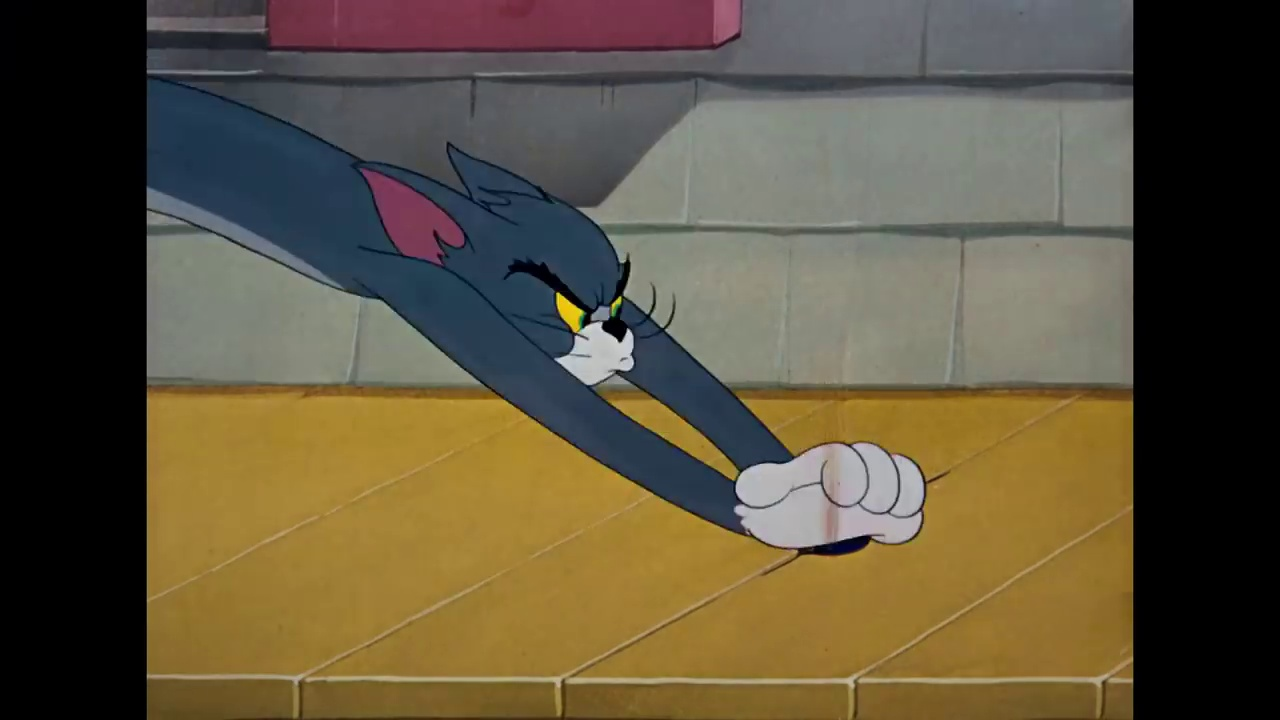tom: (354, 137, 690, 418)
